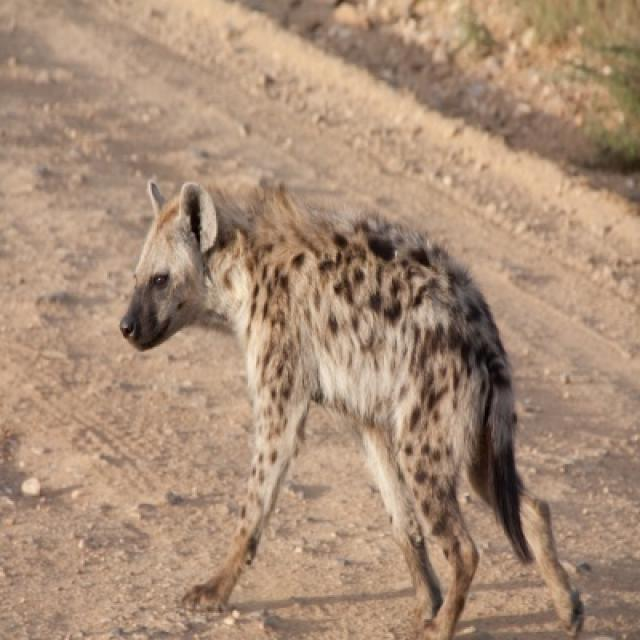hyena: (118, 181, 586, 638)
